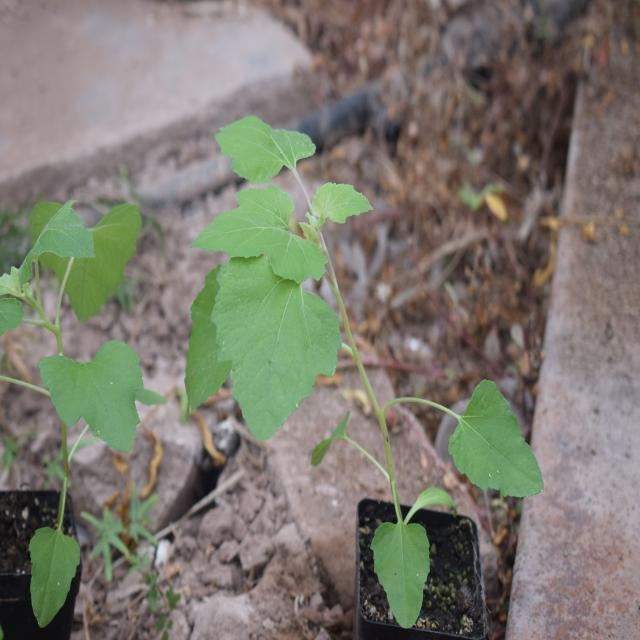cocklebur: (172, 85, 487, 548)
